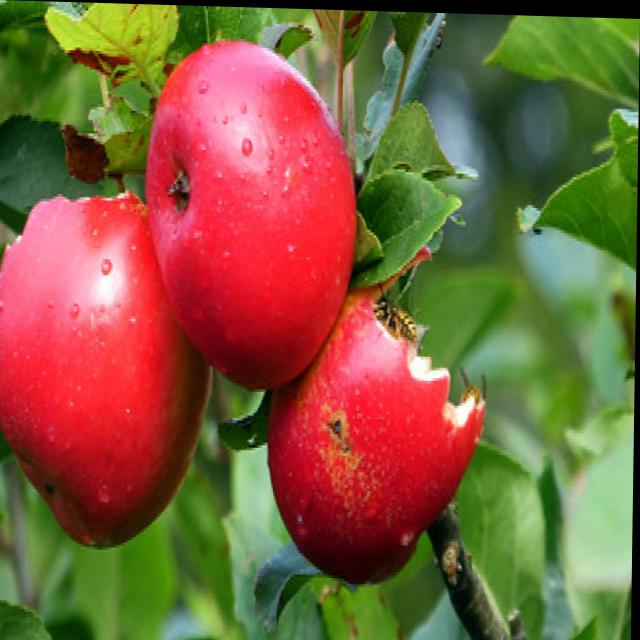Guepe: (370, 270, 426, 352)
